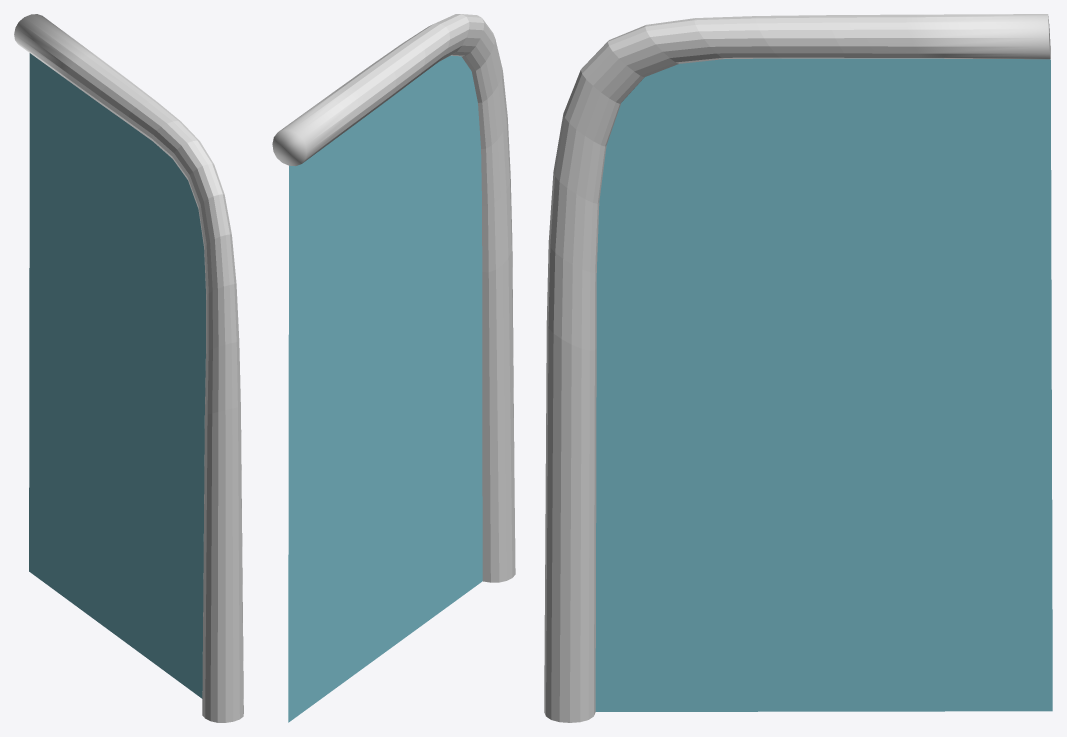
Rendered from SM_ArchEdited.fbx.
3 views of the same model, side by side, from view 1: azimuth 30°, elevation 25°; view 2: azimuth 150°, elevation 25°; view 3: azimuth 270°, elevation 25° (orthographic). The views are drawn at different scales.
Visible parts, largest first — view 1: SM_Arch_half; view 2: SM_Arch_half; view 3: SM_Arch_half.
Boxes of the visible parts, left/top/right/bottom form: SM_Arch_half: left=14, top=14, right=243, bottom=722; SM_Arch_half: left=272, top=14, right=515, bottom=722; SM_Arch_half: left=544, top=14, right=1052, bottom=722.
Size of the model in its own units: 39.44 by 588 by 390.
